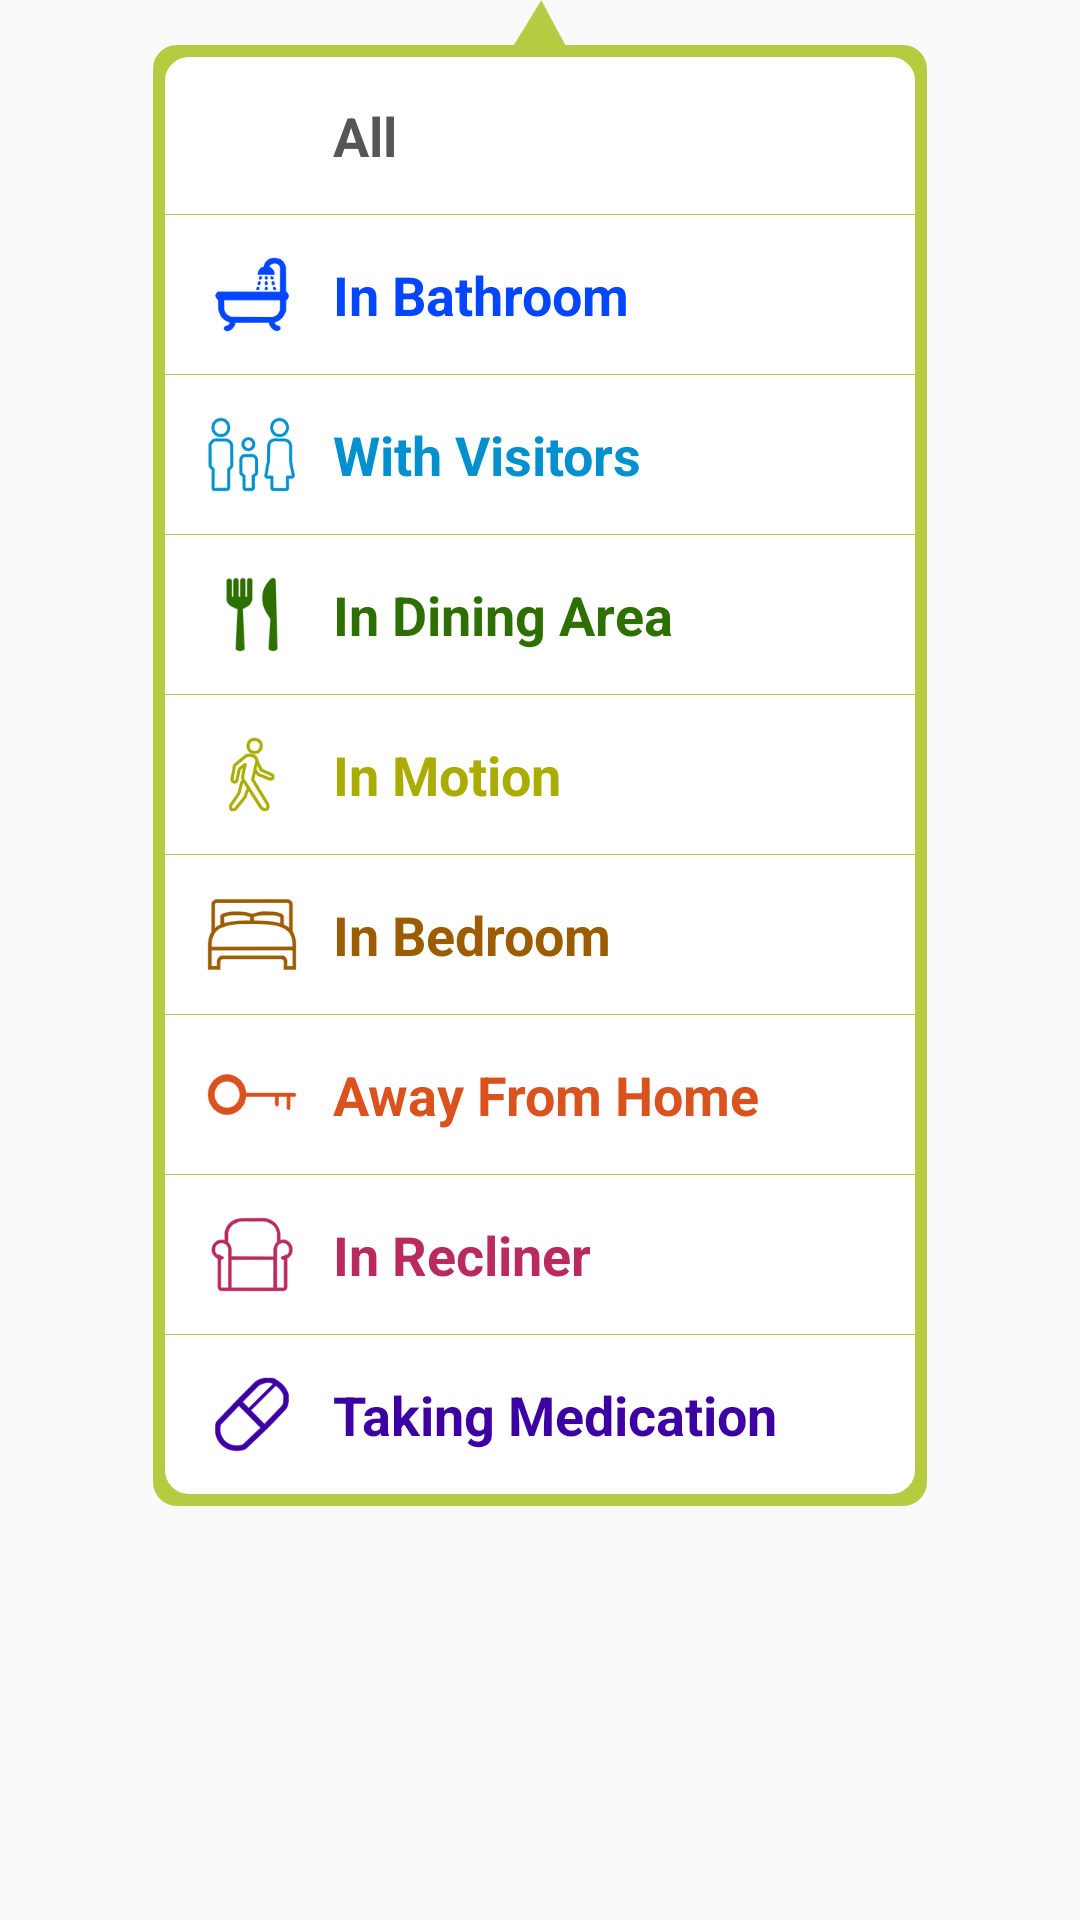

Icon click points for this 1080w x 1920h phone screenshot, format (x=x, y=y):
filter pointer: (x=539, y=23)
